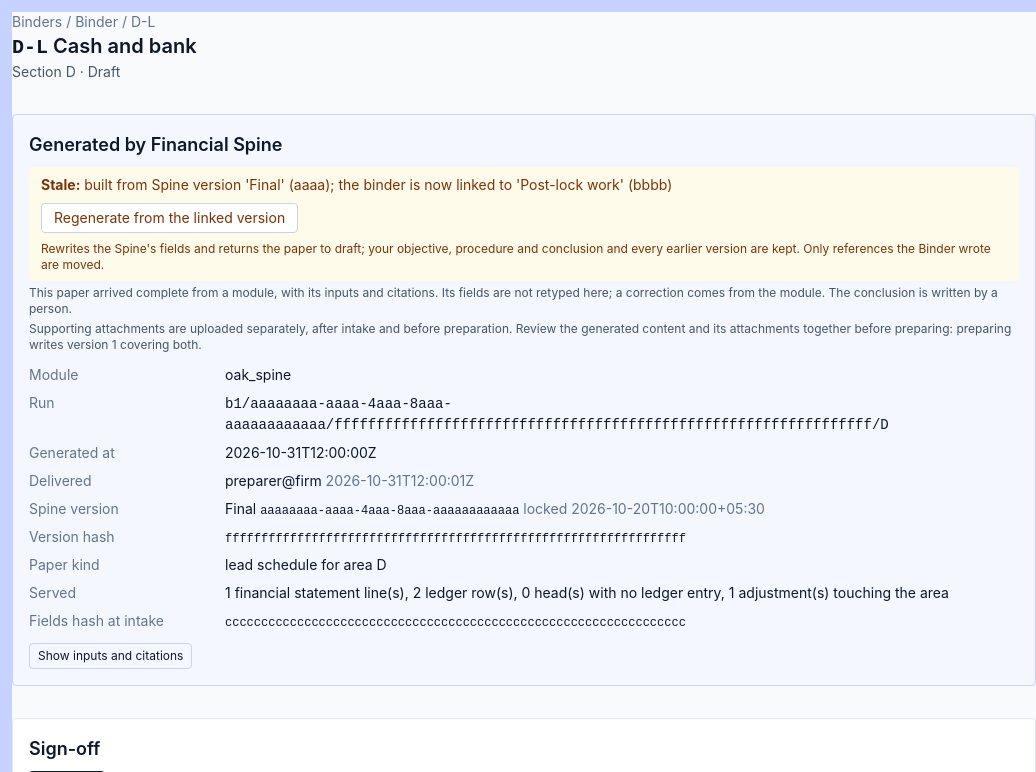
Test: a stale Spine paper on an open binder offers Regenerate and shows what happened to the references
Expected: the heading "Generated by Financial Spine" is shown, [29,134,282,155]
Expected: the message with test id "gen-freshness" shows "Stale: built from Spine version 'Final'", [29,167,1019,281]
Click the button "Regenerate from the linked version": click(170, 218) [41,203,298,233]
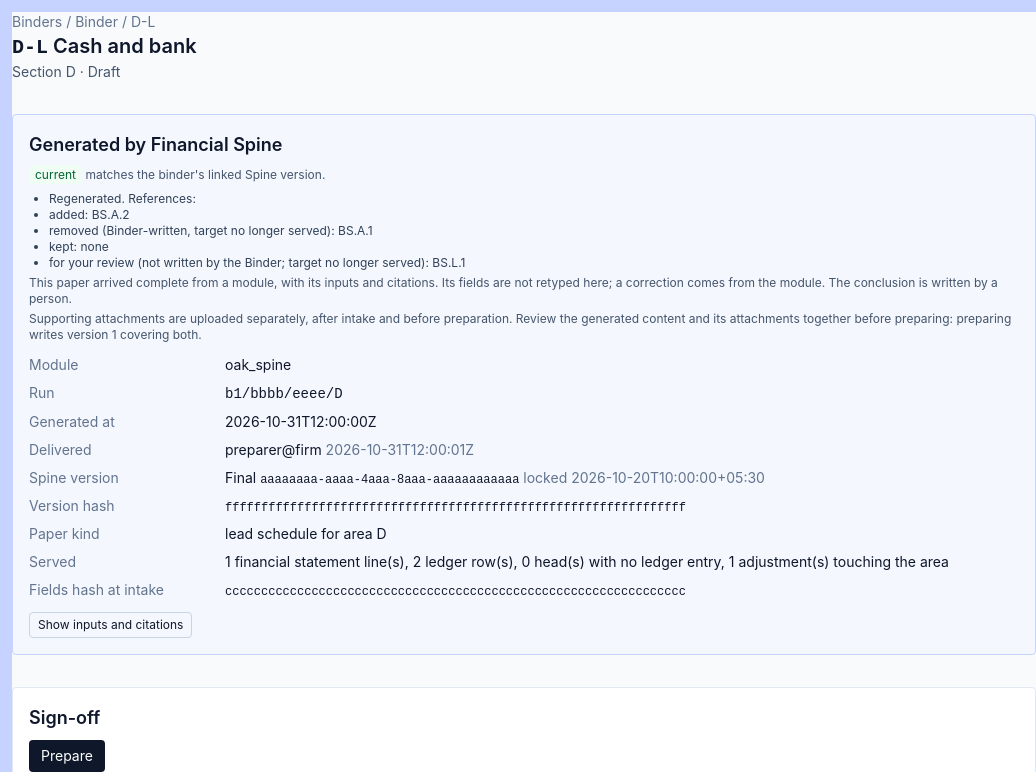
Expected: the list with test id "gen-regeneration" shows "added: BS.A.2", [49,191,465,270]
Expected: the list with test id "gen-regeneration" shows "removed (Binder-written, target no longer served): BS.A.1", [49,191,465,270]
Expected: the list with test id "gen-regeneration" shows "kept: none", [49,191,465,270]
